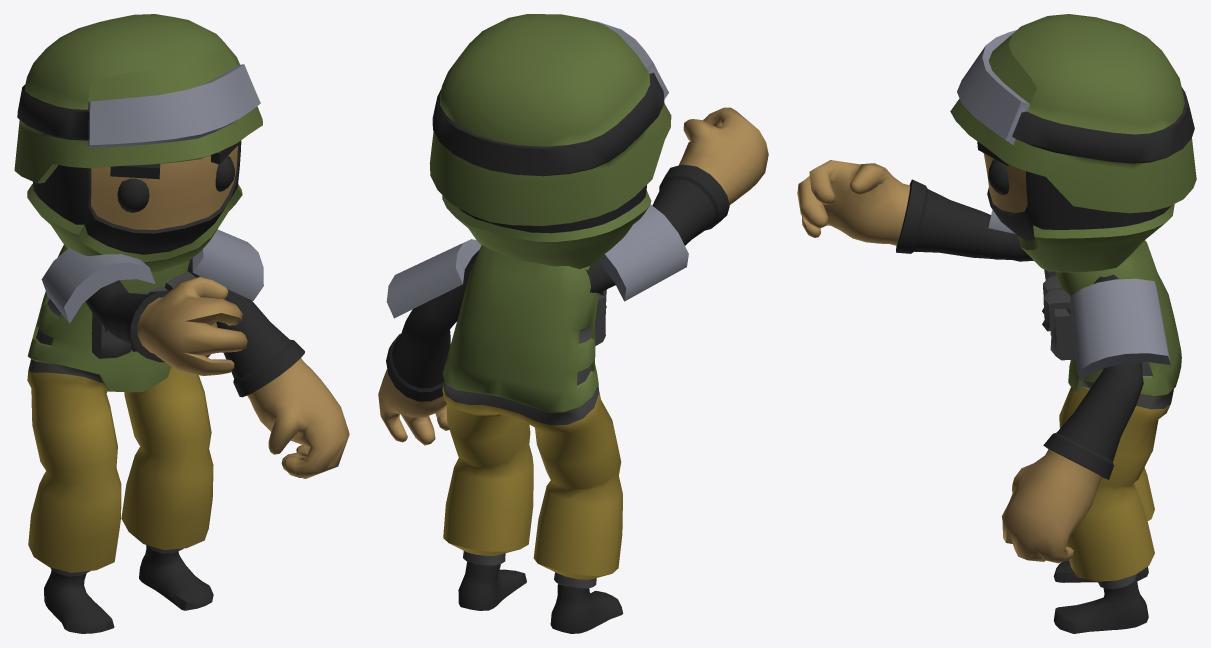
The model's file is soldier.glb.
3 views of the same model, side by side, from view 1: azimuth 30°, elevation 25°; view 2: azimuth 150°, elevation 25°; view 3: azimuth 270°, elevation 25° (orthographic). The views are drawn at different scales.
Bounding box in the file's own units: 0.5327 × 1 × 0.6368.
